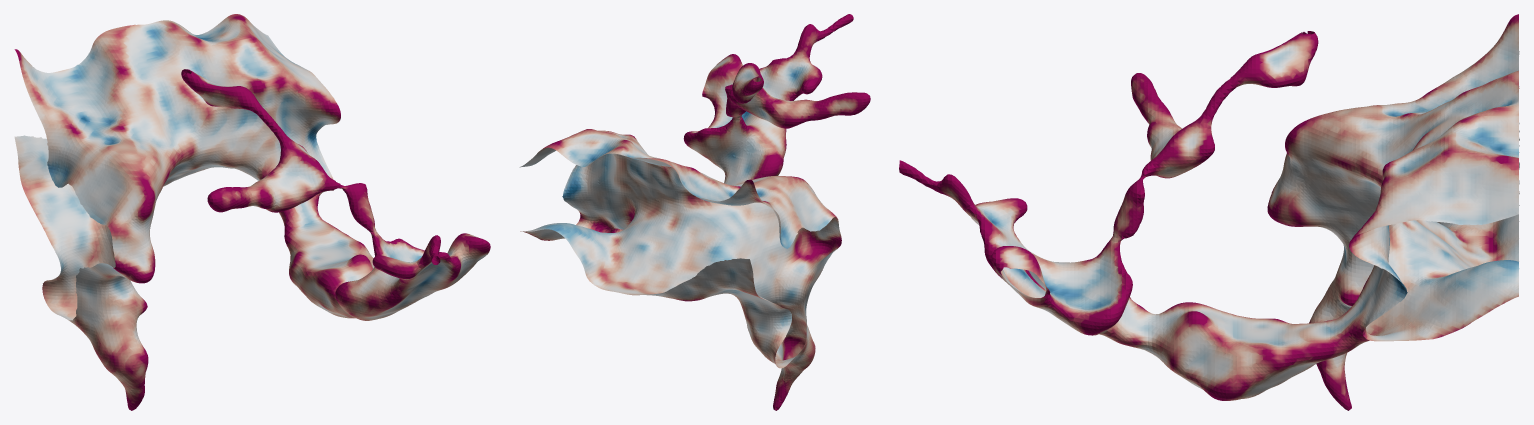
File: crop1140_deviation.glb
3 renders of one model, left to right at view 1: azimuth 30°, elevation 25°; view 2: azimuth 150°, elevation 25°; view 3: azimuth 270°, elevation 25°, orthographic. The views are drawn at different scales.
Visible parts, largest first — view 1: world; view 2: world; view 3: world.
Part boxes in pixels (box(x1,y1,x2,y2)): world: box(14, 14, 490, 410); world: box(519, 14, 870, 410); world: box(899, 14, 1519, 410).
Size of the model in its own units: 1480 by 1903 by 2678.
